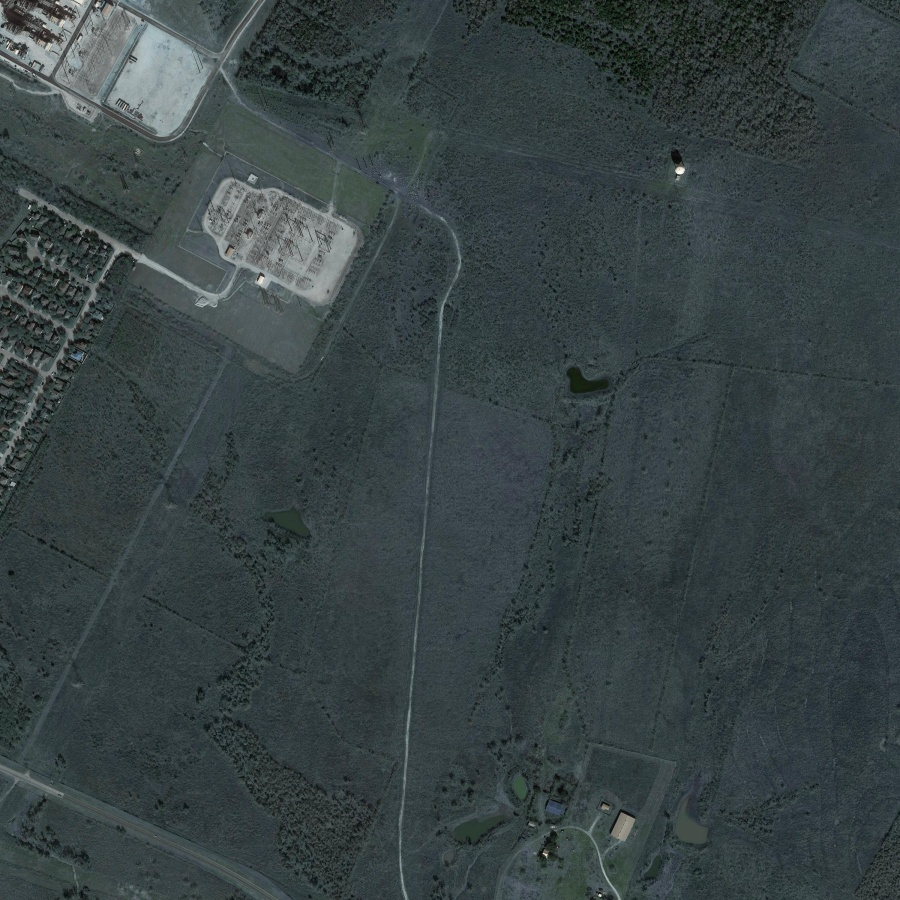PowerPlant: (200, 162, 346, 298)
